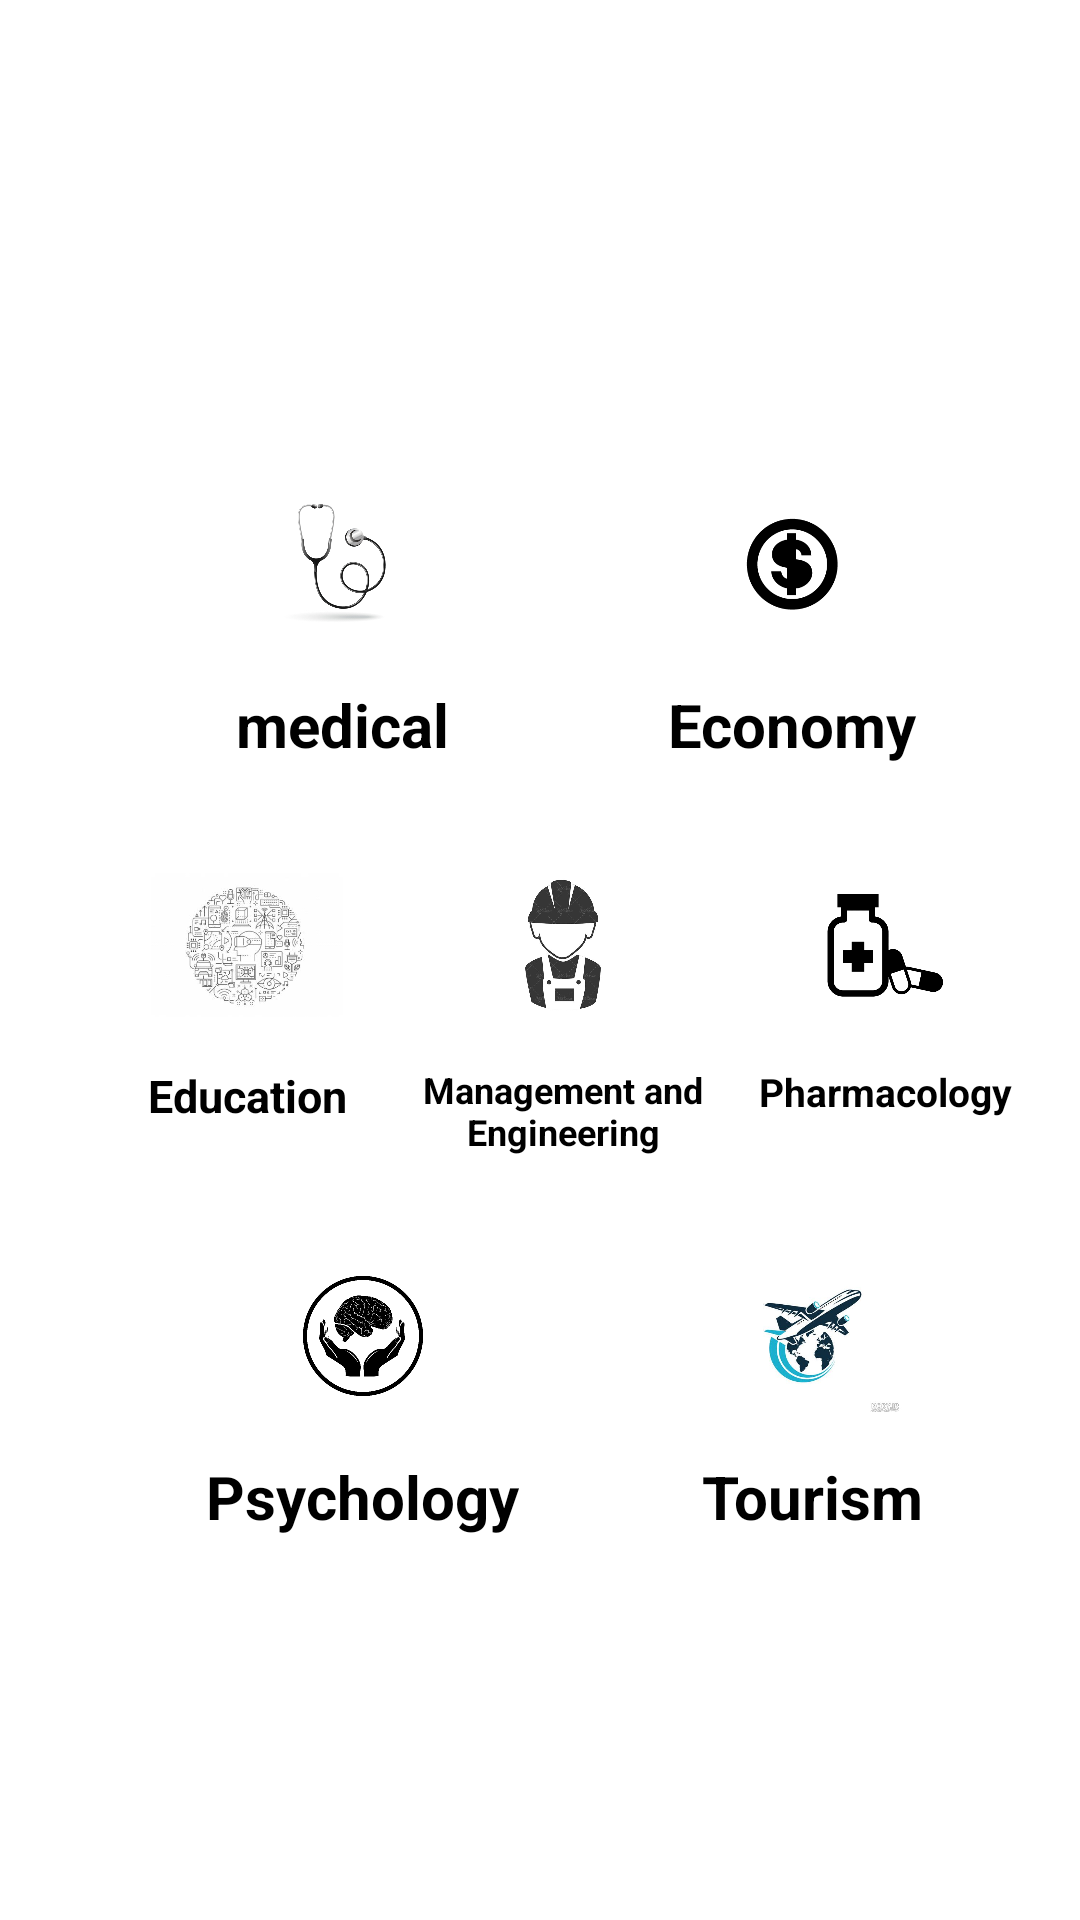

Named icons in this screenshot (1080 × 1920) and their bounding boxes, (x1, y1, x2, y2):
economic: (746, 518, 838, 610)
medicine: (827, 894, 943, 997)
psycology: (303, 1276, 423, 1396)
